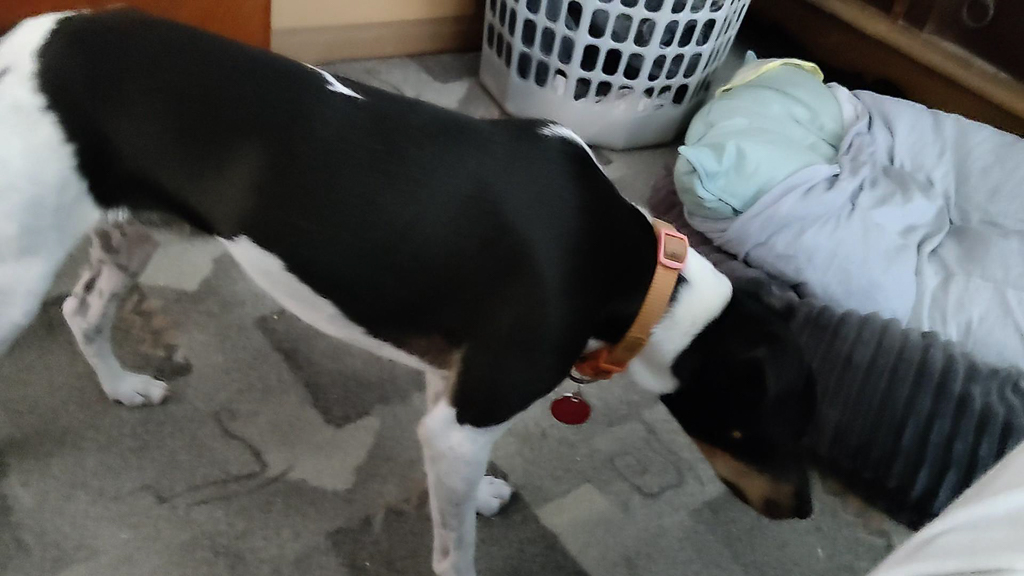Dog: (0, 5, 832, 576)
